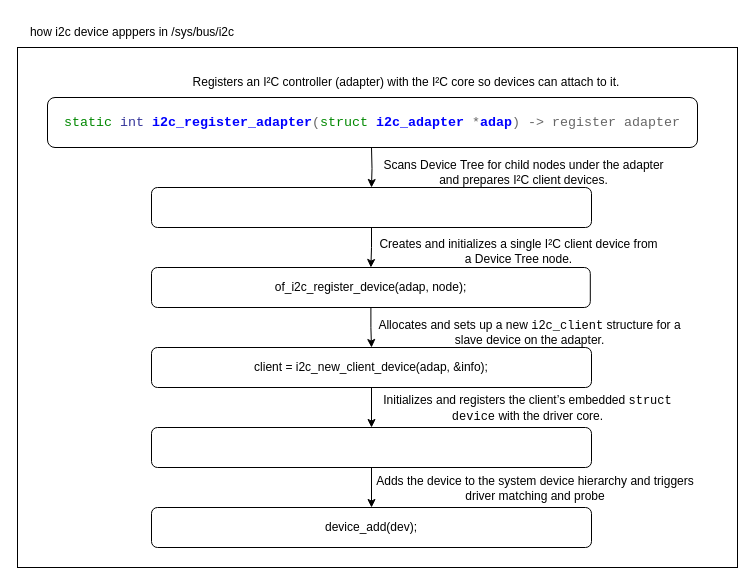
The diagram is 755 pixels wide and 585 high, and some of its shapes have lost their labels. The shapes that lost their labels are listed below. From the top down, each one's centre as x and y in pixels, then its label:
At point 371,207: "of_i2c_register_devices(adap);".
At point 371,447: "status = device_register(&client->dev);".
